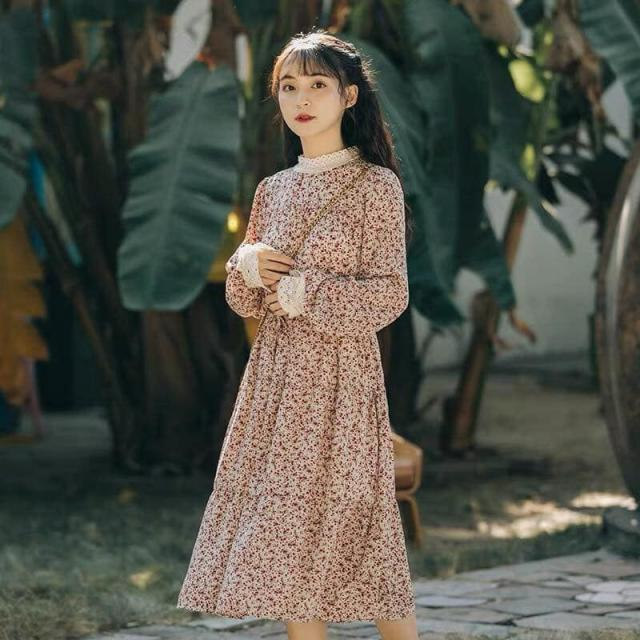clothes: (178, 149, 416, 620)
